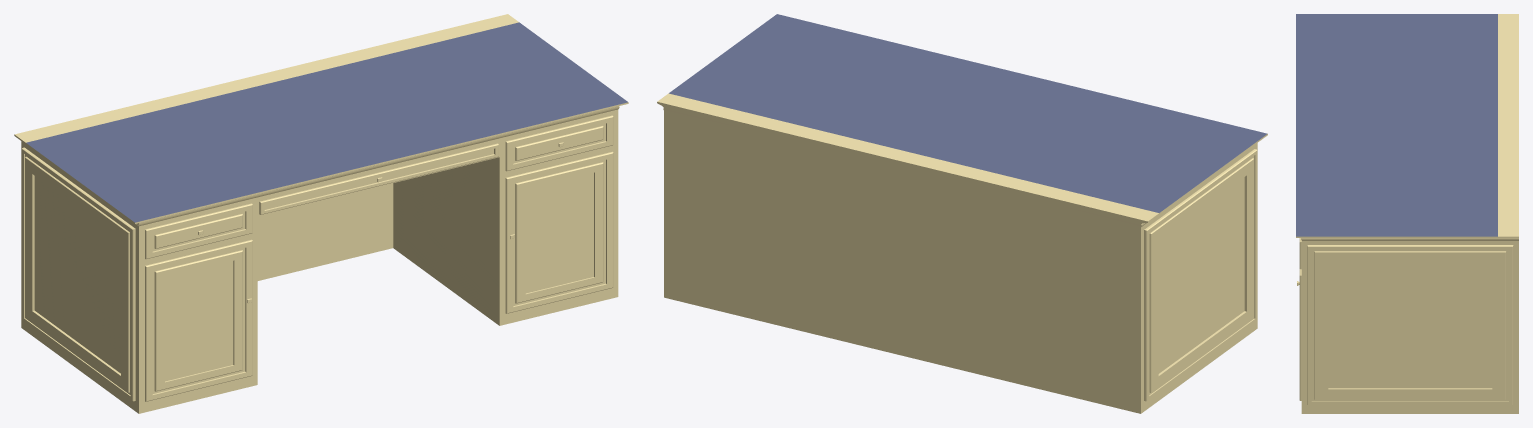
File: Manager_Desk.fbx
The picture shows the model from 3 angles, left to right: view 1: azimuth 30°, elevation 25°; view 2: azimuth 150°, elevation 25°; view 3: azimuth 270°, elevation 25°; orthographic projection. The views are drawn at different scales.
Parts seen in each view (by area): view 1: Object_1140; view 2: Object_1140; view 3: Object_1140.
Boxes of the visible parts, x1,y1,x2,y2 form: Object_1140: (14,14,628,413); Object_1140: (657,14,1267,413); Object_1140: (1296,14,1518,413).
Bounding box in the file's own units: 272 × 103 × 115.
